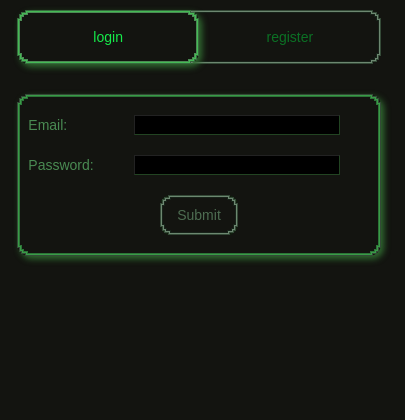
Test case: LoginForm — login mode › email state resets when switching modes
In the field labelled "Email:": (237, 125) [134, 115, 340, 135], type "bad-email"
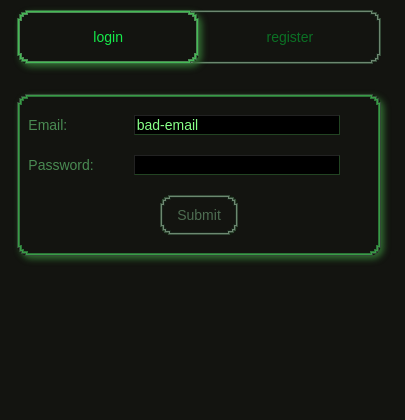
Leave the field labelled "Email:", box [134, 115, 340, 135]
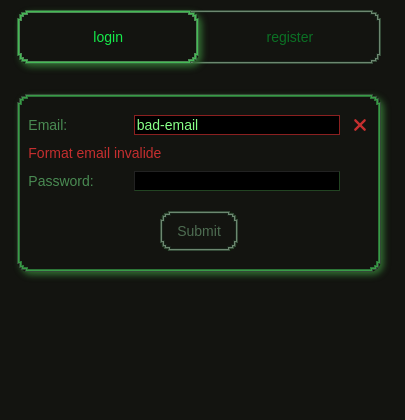
Now the text "Format email invalide" is shown, box [28, 145, 161, 161]
Click the button "login register": (108, 37) [17, 10, 381, 64]
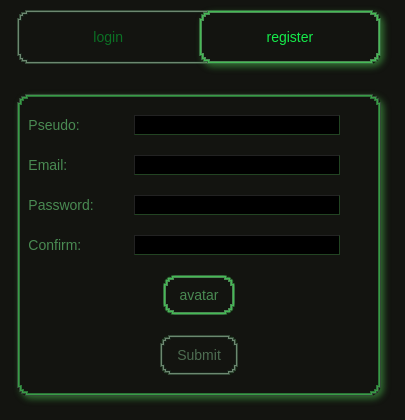
Now the text "Format email invalide" is gone
